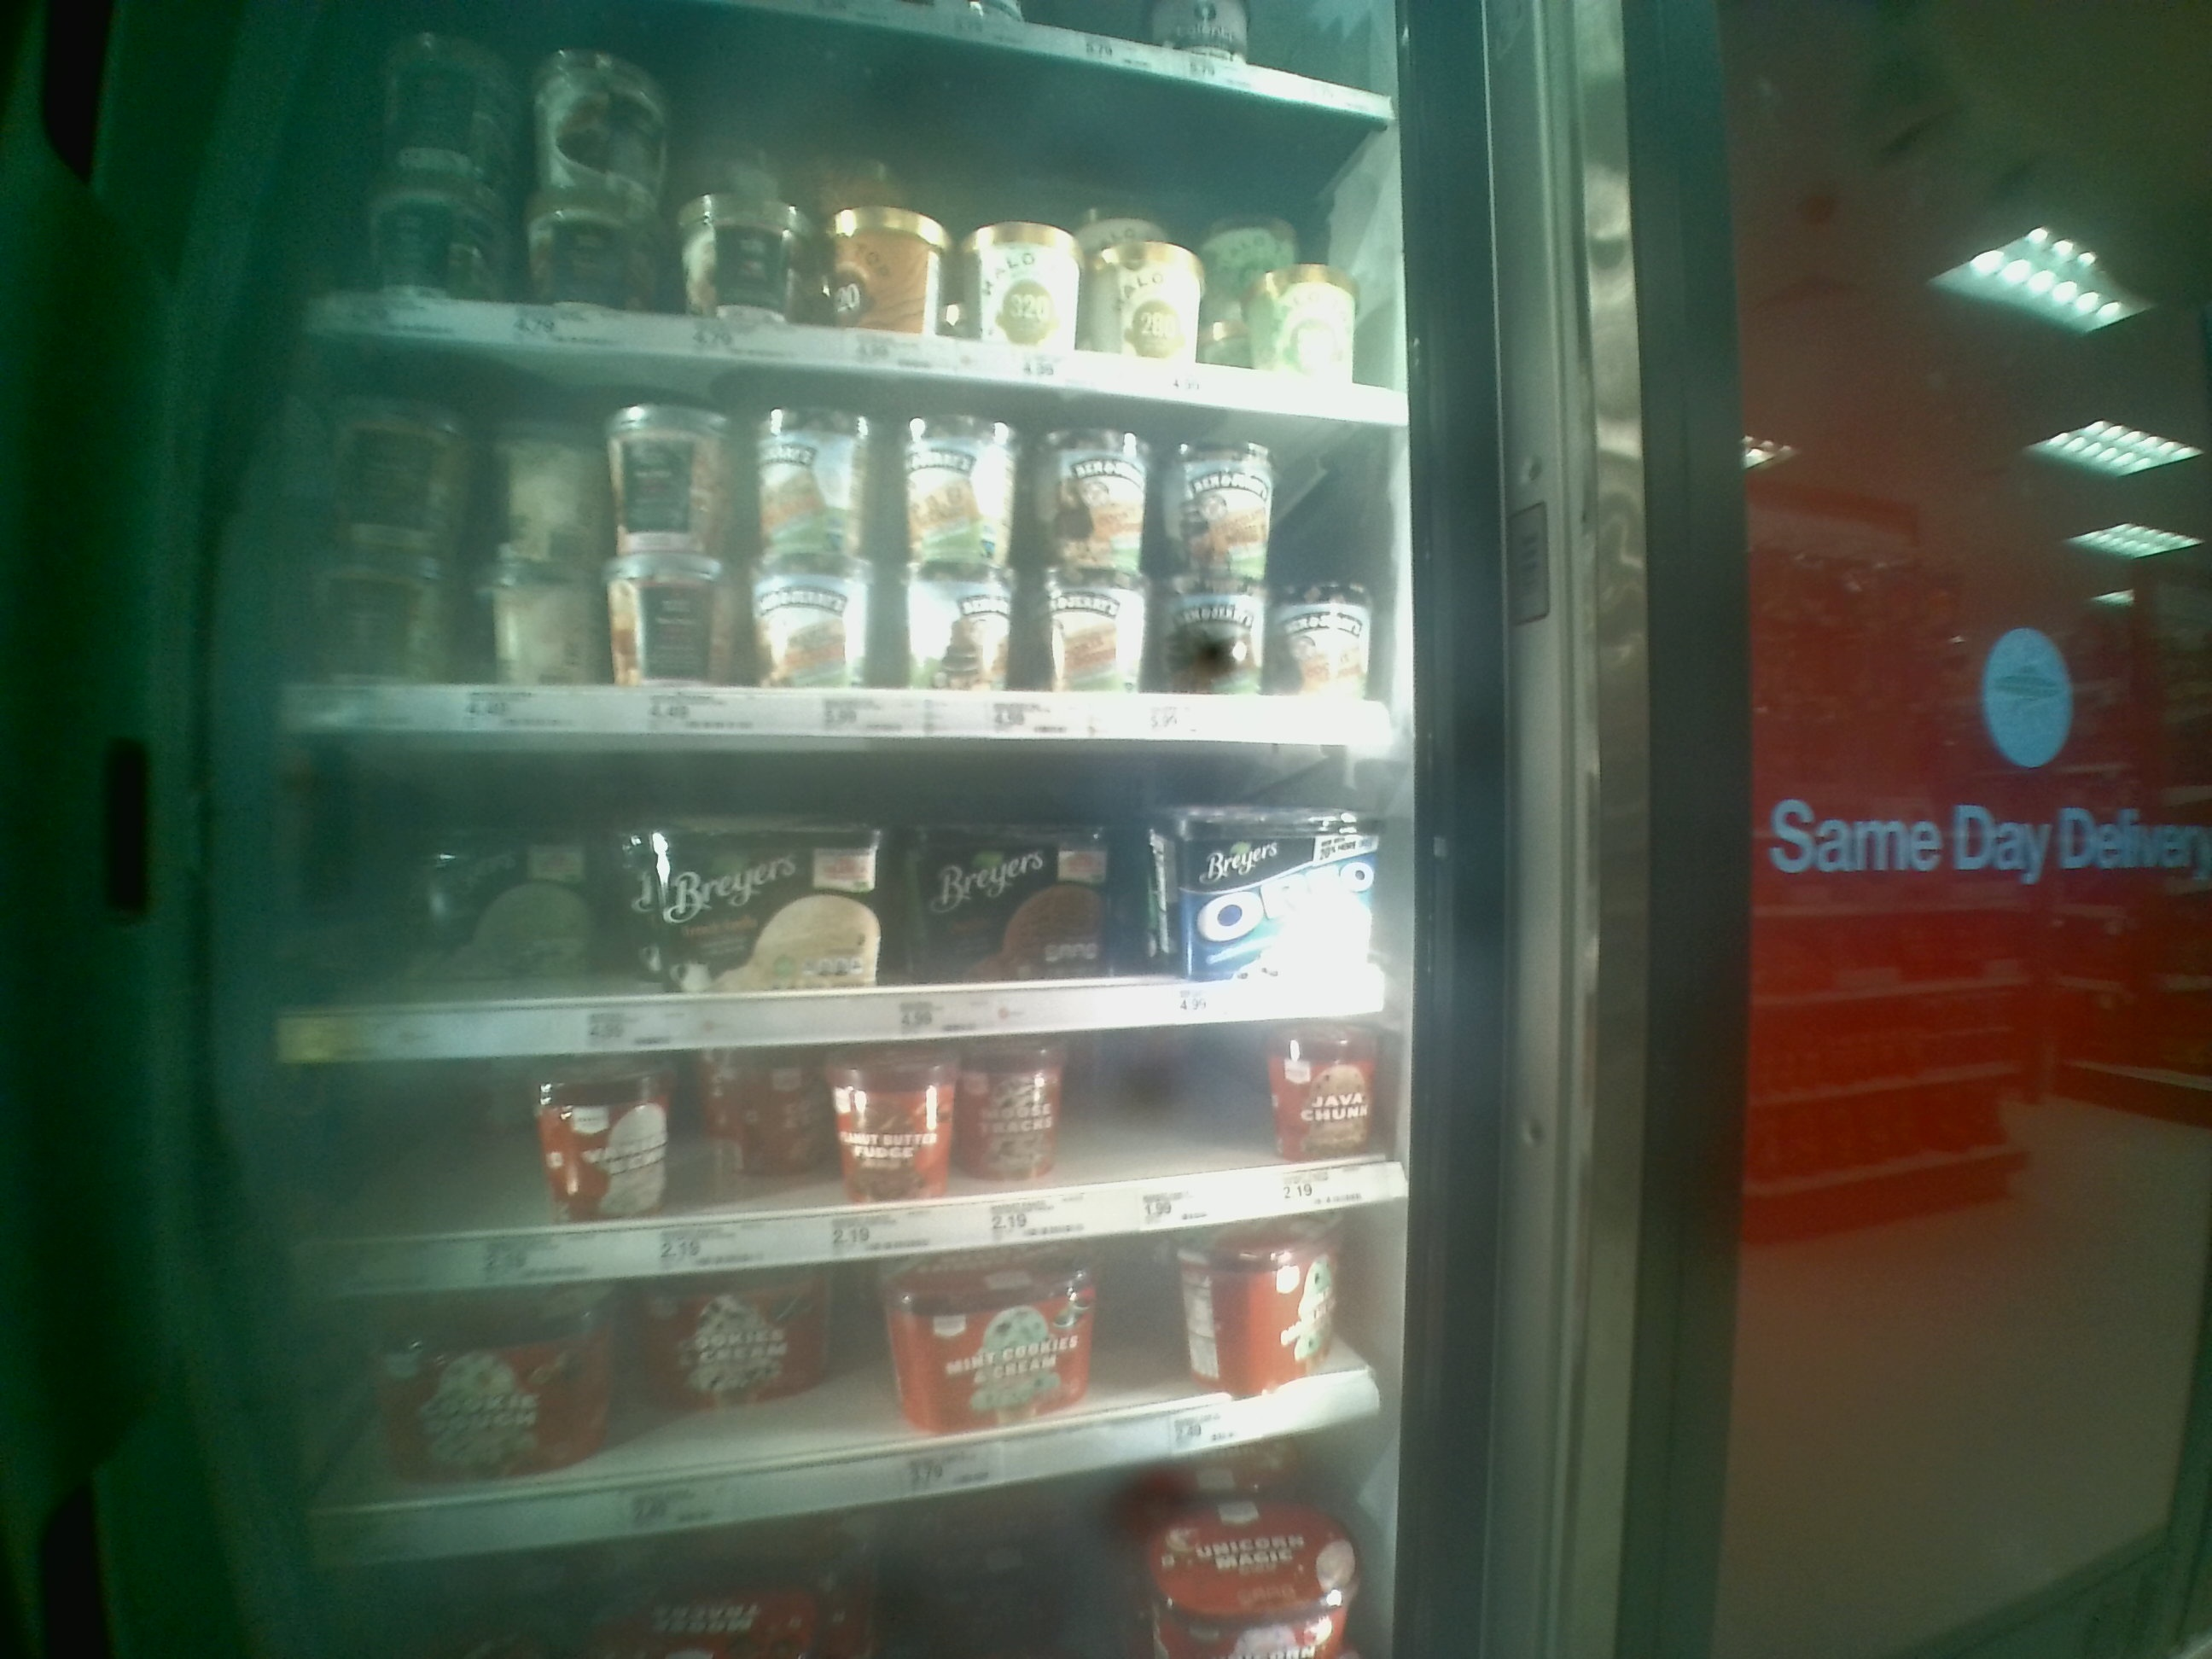ice-cream-shelf: (301, 338, 1381, 746), (289, 741, 1406, 1049), (296, 1002, 1404, 1237)
